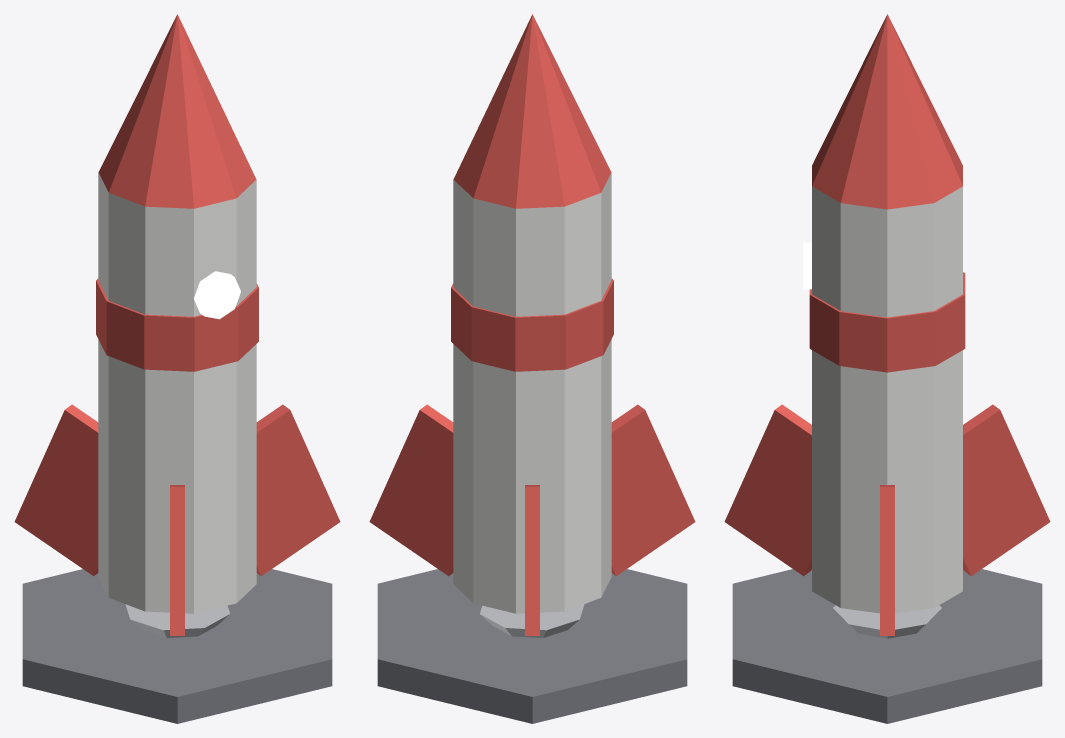
The model's file is rakete.glb.
The picture shows the model from 3 angles, left to right: view 1: azimuth 30°, elevation 25°; view 2: azimuth 150°, elevation 25°; view 3: azimuth 270°, elevation 25°; orthographic projection.
Visible parts, largest first — view 1: weiss_1, metall_dunkel_0, rot_3, rot_5, rot_6, rot_2, rot_7, metall_8, blitz_4; view 2: weiss_1, metall_dunkel_0, rot_3, rot_2, rot_5, rot_7, rot_6, metall_8; view 3: weiss_1, metall_dunkel_0, rot_3, rot_6, rot_7, rot_2, rot_5, metall_8.
Boxes of the visible parts, box(x1,y1,x2,y2) form: weiss_1: box(98, 172, 256, 613); metall_dunkel_0: box(22, 569, 332, 723); rot_3: box(98, 14, 256, 208); rot_5: box(256, 404, 340, 576); rot_6: box(14, 404, 98, 576); rot_2: box(96, 278, 258, 371); rot_7: box(170, 485, 184, 635); metall_8: box(125, 604, 229, 637); blitz_4: box(194, 271, 240, 319); weiss_1: box(453, 172, 611, 613); metall_dunkel_0: box(377, 569, 687, 723); rot_3: box(453, 14, 611, 208); rot_2: box(451, 278, 613, 371); rot_5: box(369, 404, 453, 576); rot_7: box(611, 404, 695, 576); rot_6: box(525, 485, 539, 635); metall_8: box(480, 604, 584, 637); weiss_1: box(812, 186, 962, 613); metall_dunkel_0: box(732, 569, 1042, 723); rot_3: box(812, 14, 962, 209); rot_6: box(963, 404, 1050, 576); rot_7: box(724, 404, 811, 576); rot_2: box(809, 272, 965, 372); rot_5: box(880, 485, 894, 635); metall_8: box(833, 605, 941, 638).
Size of the model in its own units: 0.7305 by 1.44 by 0.6568.
